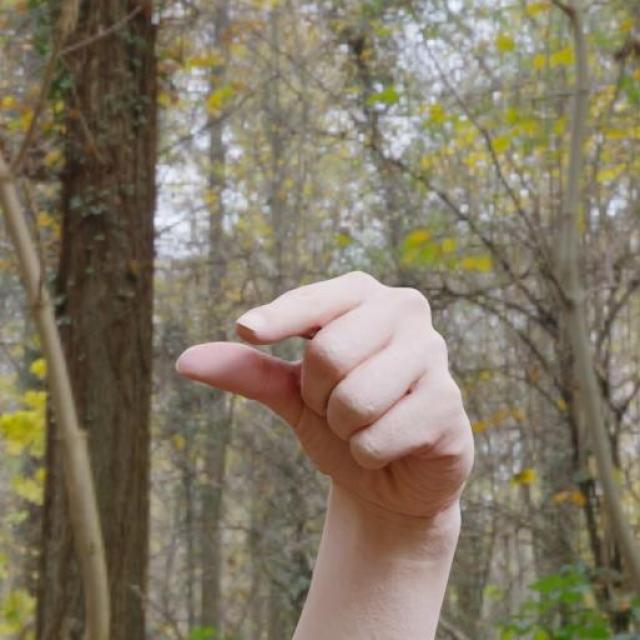G: (170, 266, 481, 522)
